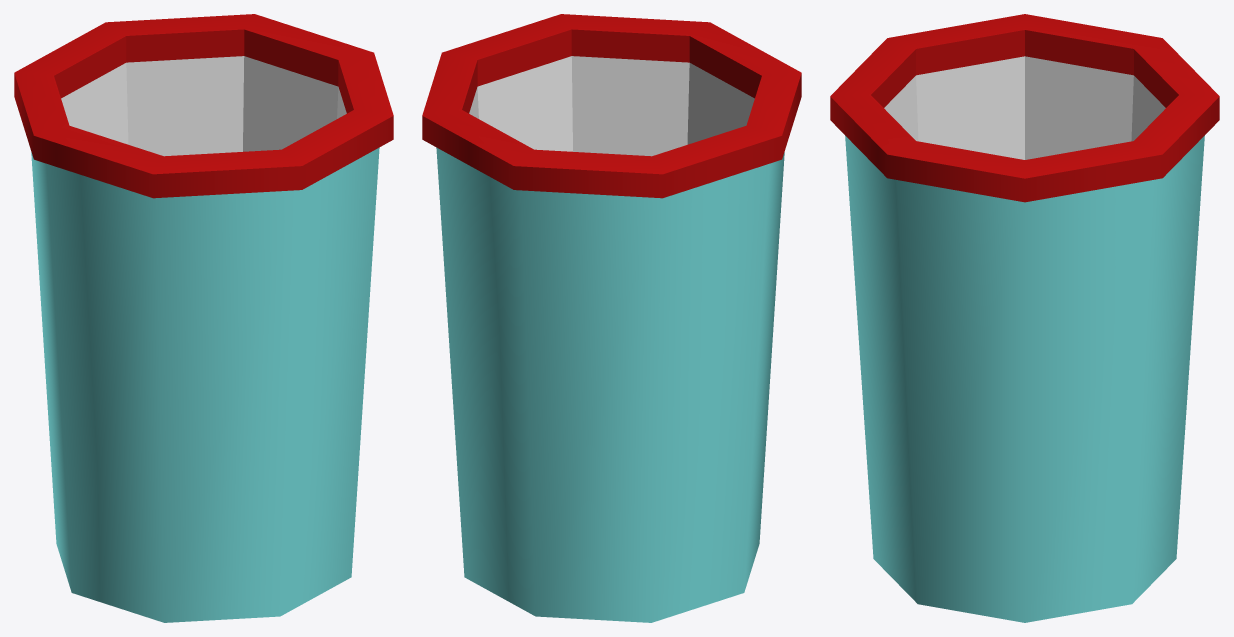
Rendered from Unwrapped_cup1.fbx.
3 renders of one model, left to right at view 1: azimuth 30°, elevation 25°; view 2: azimuth 150°, elevation 25°; view 3: azimuth 270°, elevation 25°, orthographic.
Parts seen in each view (by area): view 1: Cylinder009; view 2: Cylinder009; view 3: Cylinder009.
Boxes of the visible parts, bbox=[...] form: Cylinder009: bbox=[14, 14, 393, 622]; Cylinder009: bbox=[422, 14, 801, 622]; Cylinder009: bbox=[830, 14, 1219, 622].
Bounding box in the file's own units: 28.56 × 37.52 × 28.56.
